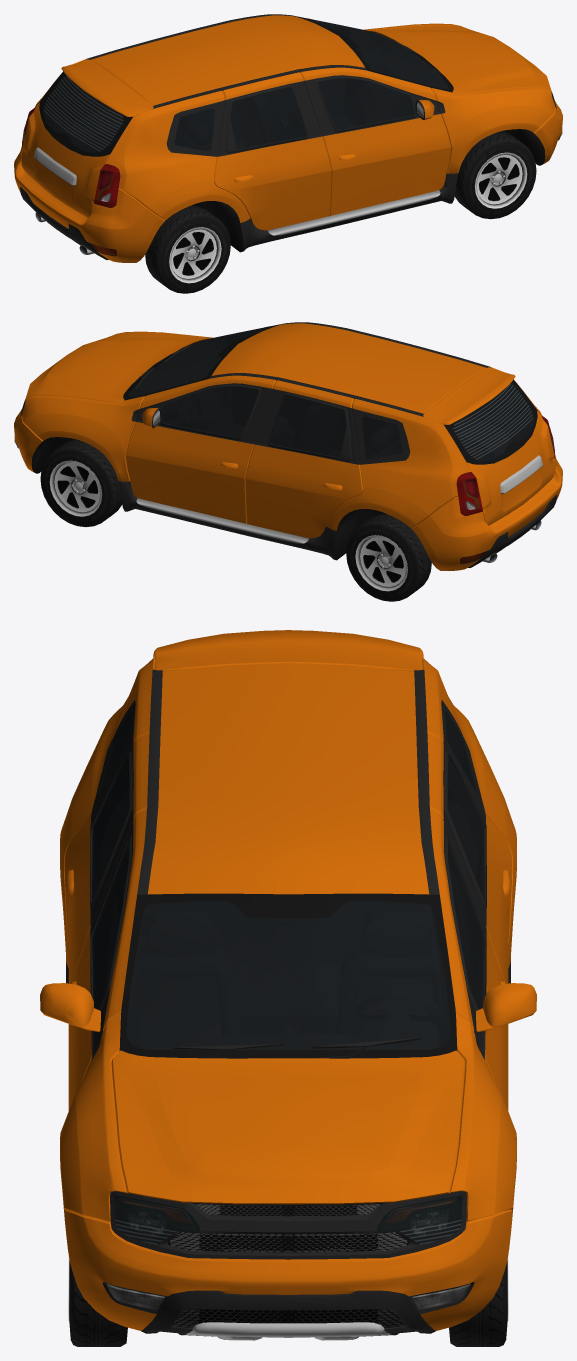
The model's file is suv-blender.glb.
3 views of the same model, one above another, from view 1: azimuth 30°, elevation 25°; view 2: azimuth 150°, elevation 25°; view 3: azimuth 270°, elevation 25° (orthographic). The views are drawn at different scales.
Visible parts, largest first — view 1: Urban10_body_Urban10_bodymat_0, Urban10_Bottom_UCB_BOTTOM_LT_0, Urban10_Interior_UCB_Interiors_2_0, wheel_rr_rueda, wheel_fr_rueda, bumper_rear, Urban10_Body_Glass_UCB_Lights_and_Glass_Transperent_0, Urban10_Glass_Rear_UCB_Lights_and_Glass_Transperent_0, Urban10_Glass_Passenger_UCB_Lights_and_Glass_Transperent_0, windshield, Urban10_Taillights_Glass_UCB_Lights_and_Glass_Transperent_0, Urban10_Bumper_Rear_Inner_UCB_BOTTOM_LT_0 (+1 smaller); view 2: Urban10_body_Urban10_bodymat_0, Urban10_Bottom_UCB_BOTTOM_LT_0, Urban10_Interior_UCB_Interiors_2_0, wheel_rl_rueda, wheel_fl_rueda, bumper_rear, Urban10_Body_Glass_UCB_Lights_and_Glass_Transperent_0, Urban10_Glass_Rear_UCB_Lights_and_Glass_Transperent_0, Urban10_Glass_Driver_UCB_Lights_and_Glass_Transperent_0, windshield, Urban10_Taillights_Glass_UCB_Lights_and_Glass_Transperent_0, Urban10_Bumper_Rear_Inner_UCB_BOTTOM_LT_0 (+2 smaller); view 3: Urban10_body_Urban10_bodymat_0, Urban10_Interior_UCB_Interiors_2_0, windshield, Urban10_Bottom_UCB_BOTTOM_LT_0, bumper_front, Urban10_Bumper_Front_Inner_UCB_BOTTOM_LT_0, Urban10_Body_Glass_UCB_Lights_and_Glass_Transperent_0, Urban10_Headlight_Glass_UCB_Lights_and_Glass_Transperent_0, Urban10_Glass_Driver_UCB_Lights_and_Glass_Transperent_0, Urban10_Glass_Passenger_UCB_Lights_and_Glass_Transperent_0, wheel_fr_rueda, wheel_fl_rueda (+2 smaller).
Boxes of the visible parts, box(x1,y1,x2,y2) form: Urban10_body_Urban10_bodymat_0: box(21, 15, 555, 238); Urban10_Bottom_UCB_BOTTOM_LT_0: box(31, 14, 556, 254); Urban10_Interior_UCB_Interiors_2_0: box(45, 19, 447, 151); wheel_rr_rueda: box(145, 205, 230, 293); wheel_fr_rueda: box(454, 131, 536, 219); bumper_rear: box(14, 146, 165, 262); Urban10_Body_Glass_UCB_Lights_and_Glass_Transperent_0: box(174, 87, 306, 151); Urban10_Glass_Rear_UCB_Lights_and_Glass_Transperent_0: box(43, 76, 123, 152); Urban10_Glass_Passenger_UCB_Lights_and_Glass_Transperent_0: box(318, 78, 414, 129); windshield: box(301, 17, 448, 88); Urban10_Taillights_Glass_UCB_Lights_and_Glass_Transperent_0: box(22, 108, 120, 207); Urban10_Bumper_Rear_Inner_UCB_BOTTOM_LT_0: box(20, 187, 116, 259); Urban10_body_Urban10_bodymat_0: box(21, 323, 555, 538); Urban10_Bottom_UCB_BOTTOM_LT_0: box(20, 322, 553, 562); Urban10_Interior_UCB_Interiors_2_0: box(129, 327, 531, 459); wheel_rl_rueda: box(346, 513, 431, 601); wheel_fl_rueda: box(40, 439, 122, 527); bumper_rear: box(411, 454, 562, 570); Urban10_Body_Glass_UCB_Lights_and_Glass_Transperent_0: box(270, 395, 402, 459); Urban10_Glass_Rear_UCB_Lights_and_Glass_Transperent_0: box(453, 384, 533, 460); Urban10_Glass_Driver_UCB_Lights_and_Glass_Transperent_0: box(162, 386, 258, 437); windshield: box(128, 325, 275, 396); Urban10_Taillights_Glass_UCB_Lights_and_Glass_Transperent_0: box(456, 416, 554, 515); Urban10_Bumper_Rear_Inner_UCB_BOTTOM_LT_0: box(460, 495, 556, 567); Urban10_body_Urban10_bodymat_0: box(40, 630, 536, 1334); Urban10_Interior_UCB_Interiors_2_0: box(94, 697, 482, 1204); windshield: box(126, 900, 450, 1049); Urban10_Bottom_UCB_BOTTOM_LT_0: box(64, 669, 512, 1259); bumper_front: box(64, 1209, 512, 1330); Urban10_Bumper_Front_Inner_UCB_BOTTOM_LT_0: box(102, 1282, 474, 1340); Urban10_Body_Glass_UCB_Lights_and_Glass_Transperent_0: box(92, 710, 484, 900); Urban10_Headlight_Glass_UCB_Lights_and_Glass_Transperent_0: box(114, 1195, 462, 1245); Urban10_Glass_Driver_UCB_Lights_and_Glass_Transperent_0: box(447, 840, 484, 1009); Urban10_Glass_Passenger_UCB_Lights_and_Glass_Transperent_0: box(92, 840, 129, 1009); wheel_fr_rueda: box(68, 1256, 127, 1346); wheel_fl_rueda: box(449, 1256, 508, 1346).
Size of the model in its own units: 4.29 by 1.52 by 1.88.
6 materials, 5 textured.
